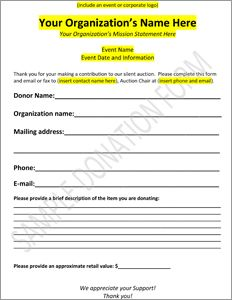textline: (12, 141, 223, 155), (34, 160, 222, 172), (34, 178, 221, 189), (53, 89, 222, 101), (62, 125, 222, 137), (12, 201, 223, 210), (8, 243, 226, 251), (72, 108, 223, 119), (9, 237, 225, 244), (10, 216, 222, 223), (10, 223, 222, 230), (11, 230, 224, 236), (11, 210, 222, 216), (117, 259, 173, 270)
